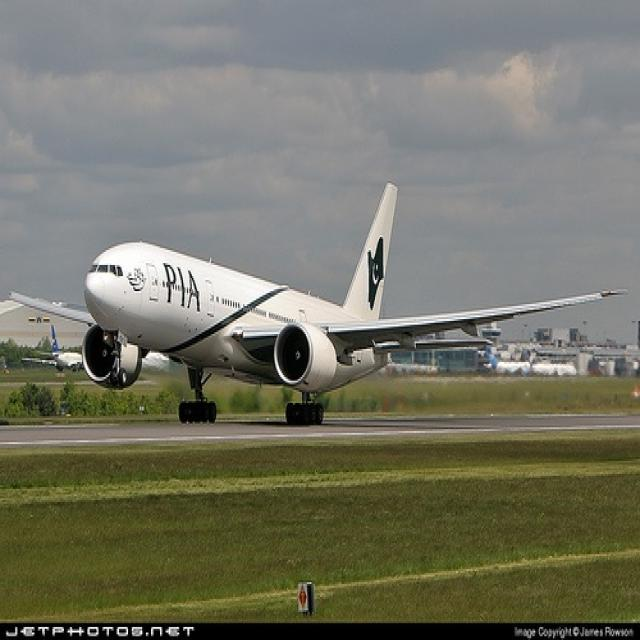aeroplane: (10, 178, 628, 432)
